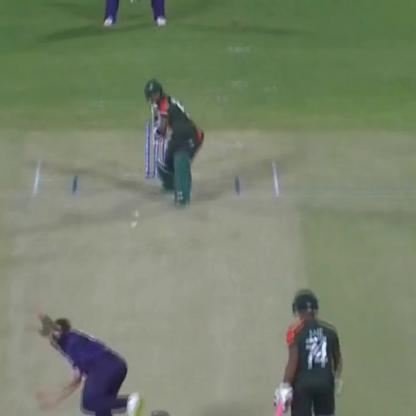ball: (128, 220, 139, 231), (131, 211, 142, 220)
bat: (142, 92, 165, 140), (273, 394, 292, 416)
pitch: (3, 160, 312, 416)
